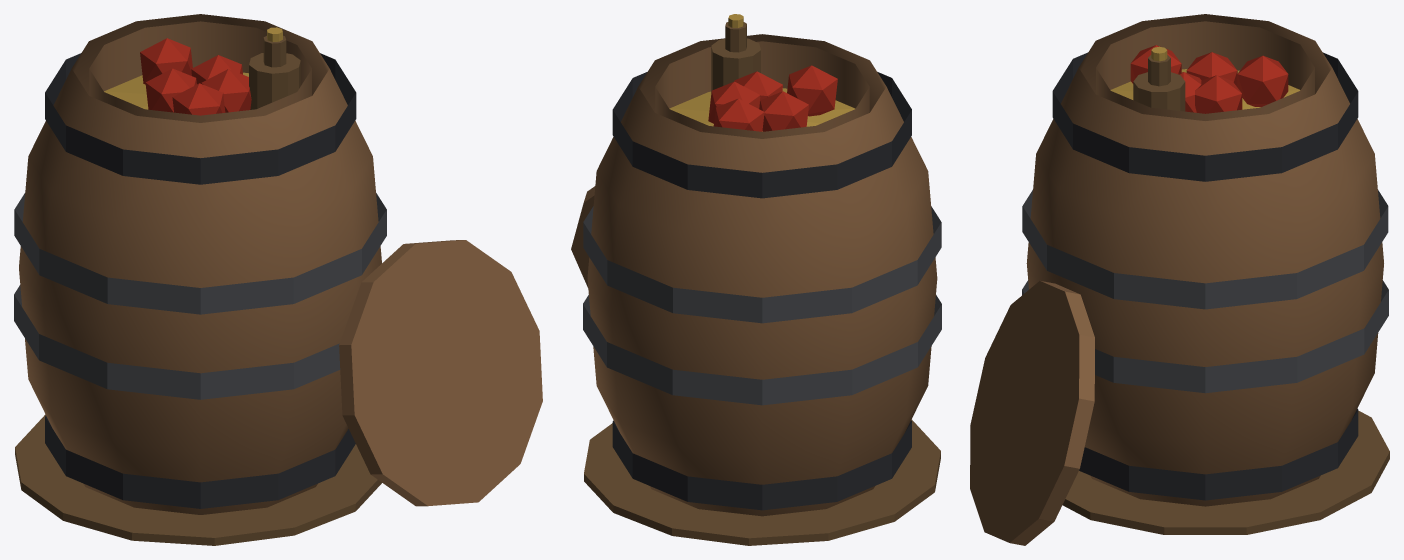
The model's file is SM_Barrel_Rustic_01_Open.glb.
3 views of the same model, side by side, from view 1: azimuth 30°, elevation 25°; view 2: azimuth 150°, elevation 25°; view 3: azimuth 270°, elevation 25° (orthographic). The views are drawn at different scales.
Parts seen in each view (by area): view 1: SM_Barrel_Rustic_01_Open_Body, SM_Barrel_Rustic_01_Open_LidProp, SM_Barrel_Rustic_01_Open_DirtRing, SM_Barrel_Rustic_01_Open_Hoop2, SM_Barrel_Rustic_01_Open_Hoop3, SM_Barrel_Rustic_01_Open_Hoop1, SM_Barrel_Rustic_01_Open_Hoop0, SM_Barrel_Rustic_01_Open_Jug, SM_Barrel_Rustic_01_Open_Apple1, SM_Barrel_Rustic_01_Open_Apple2, SM_Barrel_Rustic_01_Open_Apple3, SM_Barrel_Rustic_01_Open_Apple4 (+3 smaller); view 2: SM_Barrel_Rustic_01_Open_Body, SM_Barrel_Rustic_01_Open_DirtRing, SM_Barrel_Rustic_01_Open_Hoop2, SM_Barrel_Rustic_01_Open_Hoop1, SM_Barrel_Rustic_01_Open_Hoop3, SM_Barrel_Rustic_01_Open_Hoop0, SM_Barrel_Rustic_01_Open_Apple3, SM_Barrel_Rustic_01_Open_Jug, SM_Barrel_Rustic_01_Open_Apple2, SM_Barrel_Rustic_01_Open_StrawFill, SM_Barrel_Rustic_01_Open_Apple1, SM_Barrel_Rustic_01_Open_Apple0 (+3 smaller); view 3: SM_Barrel_Rustic_01_Open_Body, SM_Barrel_Rustic_01_Open_LidProp, SM_Barrel_Rustic_01_Open_DirtRing, SM_Barrel_Rustic_01_Open_Hoop2, SM_Barrel_Rustic_01_Open_Hoop3, SM_Barrel_Rustic_01_Open_Hoop1, SM_Barrel_Rustic_01_Open_Hoop0, SM_Barrel_Rustic_01_Open_Apple1, SM_Barrel_Rustic_01_Open_Jug, SM_Barrel_Rustic_01_Open_Apple0, SM_Barrel_Rustic_01_Open_Apple2, SM_Barrel_Rustic_01_Open_Apple3 (+2 smaller).
Boxes of the visible parts, x1,y1,x2,y2 form: SM_Barrel_Rustic_01_Open_Body: [19, 14, 381, 514]; SM_Barrel_Rustic_01_Open_LidProp: [339, 240, 542, 506]; SM_Barrel_Rustic_01_Open_DirtRing: [15, 414, 381, 545]; SM_Barrel_Rustic_01_Open_Hoop2: [14, 193, 386, 314]; SM_Barrel_Rustic_01_Open_Hoop3: [45, 53, 356, 184]; SM_Barrel_Rustic_01_Open_Hoop1: [14, 285, 340, 399]; SM_Barrel_Rustic_01_Open_Hoop0: [45, 415, 355, 508]; SM_Barrel_Rustic_01_Open_Jug: [249, 53, 300, 109]; SM_Barrel_Rustic_01_Open_Apple1: [140, 38, 192, 84]; SM_Barrel_Rustic_01_Open_Apple2: [145, 68, 196, 112]; SM_Barrel_Rustic_01_Open_Apple3: [172, 83, 225, 115]; SM_Barrel_Rustic_01_Open_Apple4: [201, 69, 251, 112]; SM_Barrel_Rustic_01_Open_Body: [587, 34, 937, 516]; SM_Barrel_Rustic_01_Open_DirtRing: [584, 419, 940, 545]; SM_Barrel_Rustic_01_Open_Hoop2: [583, 206, 941, 323]; SM_Barrel_Rustic_01_Open_Hoop1: [583, 295, 941, 405]; SM_Barrel_Rustic_01_Open_Hoop3: [612, 72, 911, 198]; SM_Barrel_Rustic_01_Open_Hoop0: [612, 420, 911, 510]; SM_Barrel_Rustic_01_Open_Apple3: [787, 65, 837, 116]; SM_Barrel_Rustic_01_Open_Jug: [711, 38, 760, 91]; SM_Barrel_Rustic_01_Open_Apple2: [759, 91, 808, 131]; SM_Barrel_Rustic_01_Open_StrawFill: [669, 88, 855, 131]; SM_Barrel_Rustic_01_Open_Apple1: [713, 98, 764, 131]; SM_Barrel_Rustic_01_Open_Apple0: [708, 81, 760, 123]; SM_Barrel_Rustic_01_Open_Body: [1026, 14, 1383, 506]; SM_Barrel_Rustic_01_Open_LidProp: [970, 281, 1094, 545]; SM_Barrel_Rustic_01_Open_DirtRing: [1062, 410, 1389, 534]; SM_Barrel_Rustic_01_Open_Hoop2: [1022, 190, 1388, 309]; SM_Barrel_Rustic_01_Open_Hoop3: [1052, 52, 1358, 181]; SM_Barrel_Rustic_01_Open_Hoop1: [1022, 280, 1388, 393]; SM_Barrel_Rustic_01_Open_Hoop0: [1079, 408, 1358, 500]; SM_Barrel_Rustic_01_Open_Apple1: [1237, 55, 1288, 107]; SM_Barrel_Rustic_01_Open_Jug: [1133, 72, 1185, 111]; SM_Barrel_Rustic_01_Open_Apple0: [1195, 75, 1242, 113]; SM_Barrel_Rustic_01_Open_Apple2: [1186, 52, 1237, 86]; SM_Barrel_Rustic_01_Open_Apple3: [1130, 45, 1181, 83].
Size of the model in its own units: 0.8441 by 0.83 by 0.7284.
